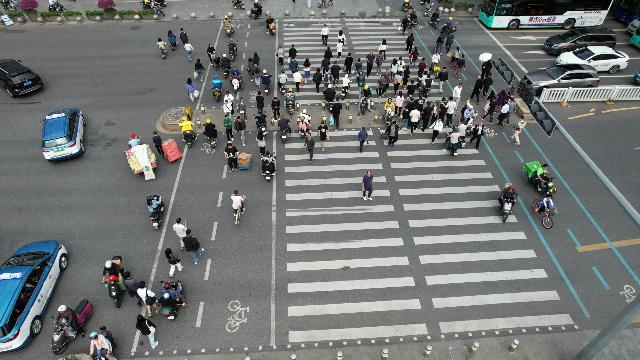non-motor-vehicle: (48, 298, 94, 354), (521, 158, 557, 200), (124, 134, 156, 180), (99, 254, 125, 310), (157, 279, 190, 321), (89, 326, 118, 360), (532, 194, 560, 229), (498, 182, 518, 224), (144, 194, 164, 230), (228, 190, 246, 226), (178, 116, 198, 148), (460, 102, 476, 136), (260, 150, 276, 182), (202, 119, 218, 149), (277, 113, 293, 143), (444, 128, 460, 158), (416, 72, 434, 98), (380, 98, 396, 127), (229, 66, 245, 93), (298, 109, 312, 139), (453, 118, 467, 148), (253, 110, 267, 138), (322, 84, 336, 112), (260, 69, 274, 95), (211, 74, 223, 102), (225, 38, 239, 62), (429, 51, 441, 79), (284, 88, 296, 114), (340, 74, 352, 100), (219, 53, 231, 79), (413, 93, 425, 119), (362, 85, 372, 115), (45, 0, 69, 12), (276, 70, 288, 94), (441, 17, 457, 35), (250, 0, 264, 20), (448, 47, 460, 70), (222, 15, 234, 37), (150, 0, 166, 16), (264, 15, 276, 36), (406, 80, 416, 104), (504, 86, 516, 105), (157, 38, 167, 60), (167, 29, 177, 51), (430, 9, 440, 29), (138, 0, 156, 10), (408, 10, 418, 28), (230, 0, 246, 10), (424, 0, 434, 16), (317, 0, 333, 10), (406, 4, 416, 18), (401, 1, 409, 12)
person: (134, 313, 160, 351), (152, 130, 182, 162), (120, 268, 144, 308), (223, 142, 253, 174), (182, 229, 204, 265), (170, 217, 190, 250), (138, 280, 156, 316), (163, 248, 184, 278), (381, 121, 401, 149), (510, 115, 526, 147), (205, 43, 222, 71), (479, 98, 496, 124), (316, 121, 330, 152), (478, 52, 492, 82), (428, 118, 444, 144), (330, 96, 342, 130), (235, 115, 248, 146), (304, 132, 316, 164), (471, 121, 484, 150), (222, 114, 234, 144), (362, 170, 373, 202), (444, 98, 456, 127), (497, 99, 509, 128), (504, 97, 516, 125), (437, 66, 449, 93), (438, 96, 448, 128), (186, 78, 198, 104), (357, 128, 369, 154), (422, 101, 432, 131), (429, 102, 441, 127), (452, 82, 462, 112), (454, 55, 466, 80), (410, 105, 420, 134), (470, 76, 480, 105), (194, 58, 206, 82), (431, 32, 443, 56), (482, 73, 494, 97), (253, 60, 263, 88), (302, 57, 312, 85), (330, 60, 340, 88), (223, 90, 234, 115), (271, 97, 281, 124), (408, 96, 417, 126), (178, 27, 190, 49), (292, 70, 304, 92), (288, 56, 300, 78), (444, 31, 456, 53), (223, 100, 233, 126), (312, 68, 322, 94), (393, 70, 403, 96), (485, 88, 495, 114), (496, 88, 506, 114), (354, 57, 364, 82), (237, 97, 247, 121), (344, 52, 354, 76), (378, 38, 388, 62), (401, 66, 411, 90), (404, 32, 414, 56), (366, 50, 374, 78), (395, 90, 403, 118), (183, 40, 193, 62), (252, 51, 262, 73), (322, 68, 332, 90), (323, 46, 333, 68), (401, 105, 409, 132), (287, 43, 297, 64), (337, 29, 347, 50), (398, 15, 408, 36), (246, 56, 254, 82), (256, 91, 264, 117), (376, 73, 384, 99), (383, 68, 391, 94), (320, 23, 328, 47), (390, 57, 398, 81), (397, 56, 405, 80), (410, 46, 418, 70), (336, 39, 344, 61), (321, 54, 329, 76), (276, 45, 284, 67), (376, 52, 382, 78), (418, 57, 424, 78)
